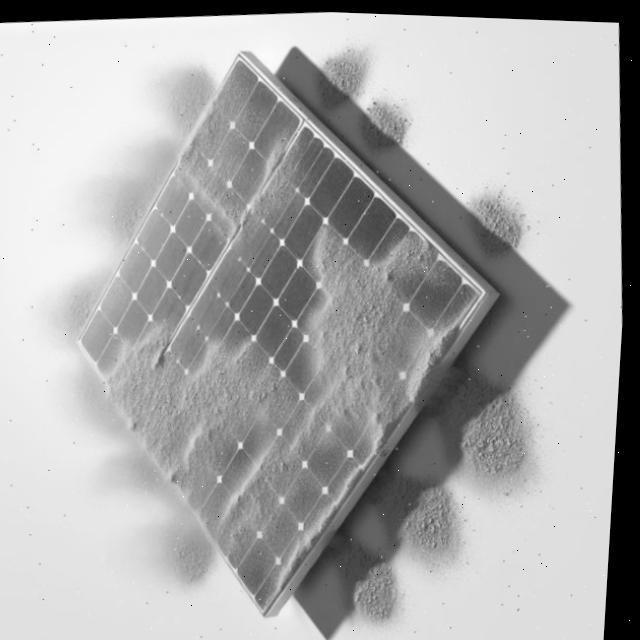Anomaly Solar Panel: (81, 52, 489, 616)
Surface Contaminant: (43, 127, 492, 610), (144, 65, 327, 249)
